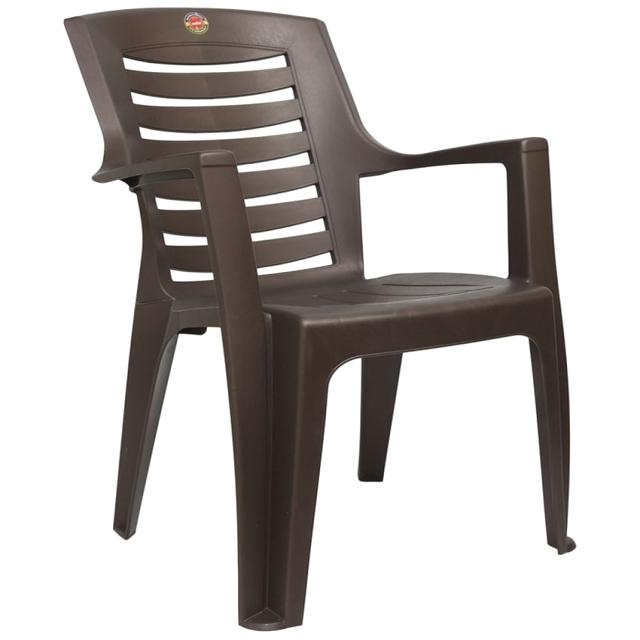Chair: (53, 6, 595, 635)
